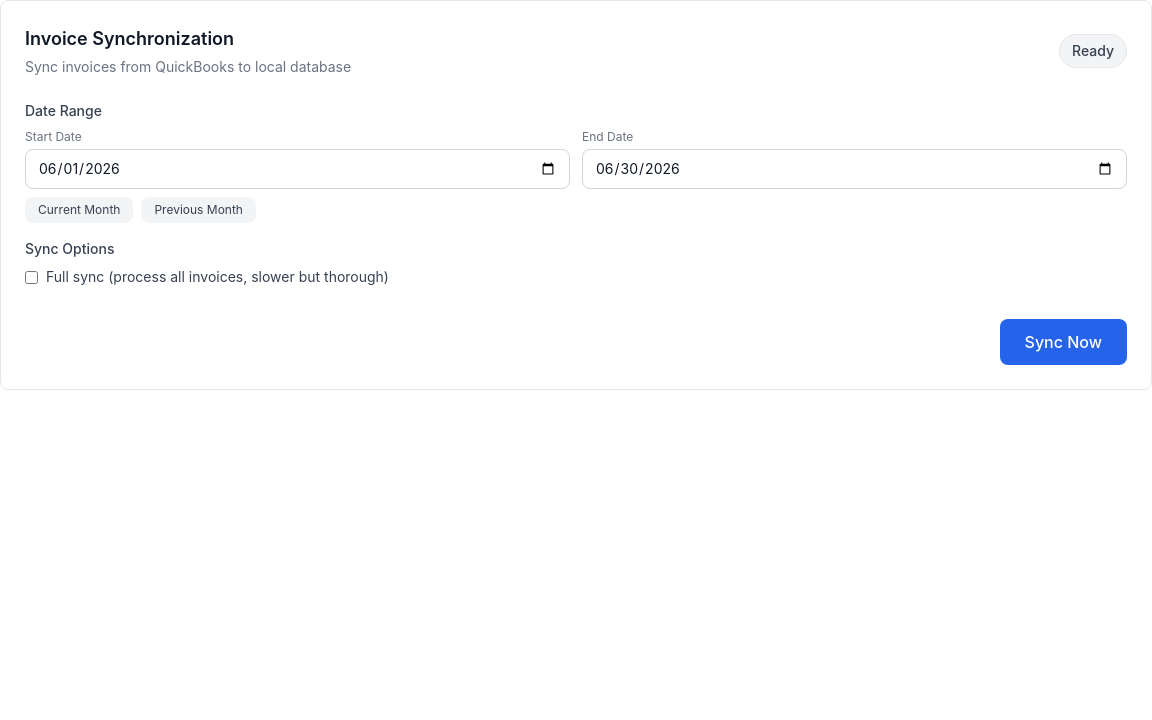
Test case: QuickBooksSyncPanel - Last Sync Display › should update last sync timestamp after successful sync
Check: the text "Last Sync:" is not shown
Click the button "Sync Now": [1063, 342] box x1=1000 y1=319 x2=1127 y2=365
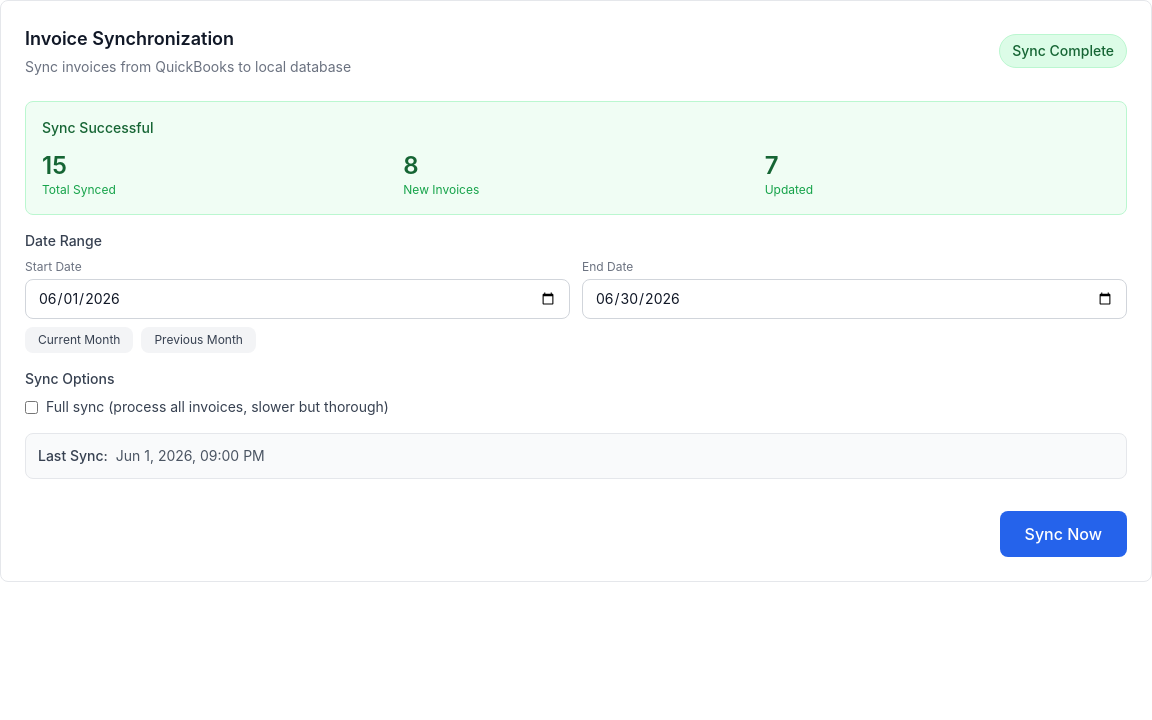
Check: the text "Last Sync:" is shown, box x1=38 y1=447 x2=108 y2=464
